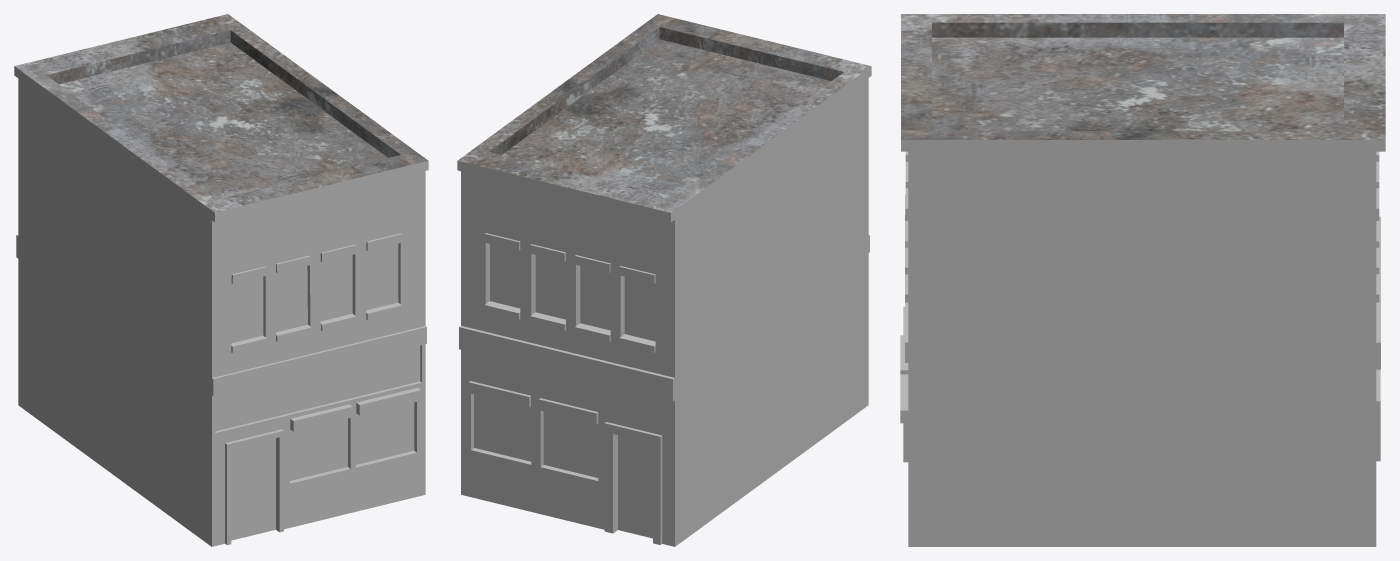
The picture shows the model from 3 angles, left to right: view 1: azimuth 30°, elevation 25°; view 2: azimuth 150°, elevation 25°; view 3: azimuth 270°, elevation 25°; orthographic projection. The views are drawn at different scales.
Parts seen in each view (by area): view 1: B29; view 2: B29; view 3: B29.
Boxes of the visible parts, x1,y1,x2,y2 form: B29: (14, 14, 428, 546); B29: (457, 14, 871, 546); B29: (900, 14, 1385, 546).
Size of the model in its own units: 791 by 1190 by 1286.
